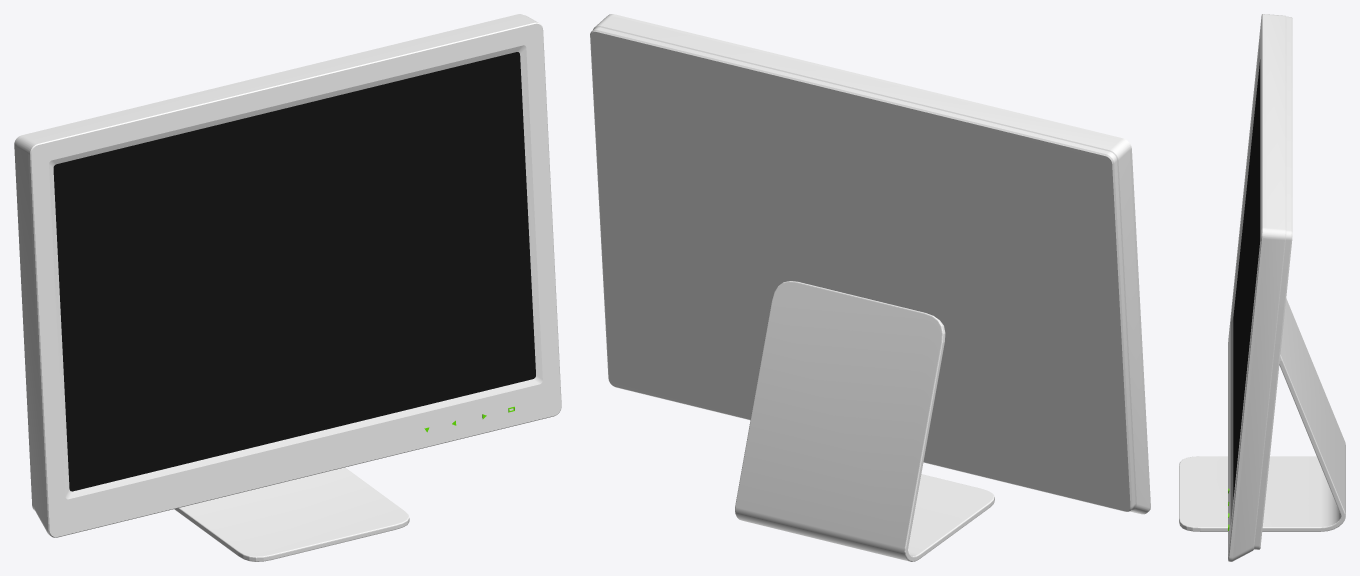
File: Monitor.FBX
3 views of the same model, side by side, from view 1: azimuth 30°, elevation 25°; view 2: azimuth 150°, elevation 25°; view 3: azimuth 270°, elevation 25° (orthographic). The views are drawn at different scales.
Visible parts, largest first — view 1: Monitor; view 2: Monitor; view 3: Monitor.
Part boxes in pixels (x1,y1,x2,y2): Monitor: (14,14,561,561); Monitor: (590,14,1150,561); Monitor: (1179,14,1345,561).
Bounding box in the file's own units: 55.12 × 43.83 × 17.68.
2 materials, 1 textured.
